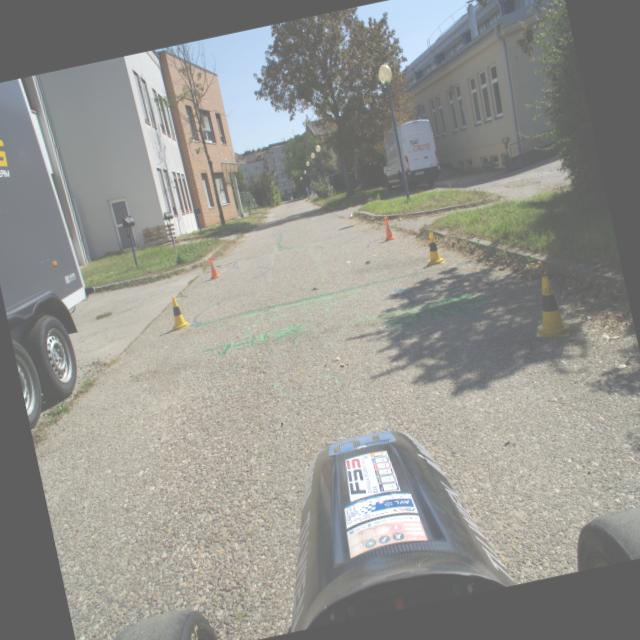orange_cone: (378, 214, 396, 242), (204, 255, 222, 280)
yellow_cone: (524, 272, 573, 342), (164, 294, 192, 332), (420, 231, 444, 266)
